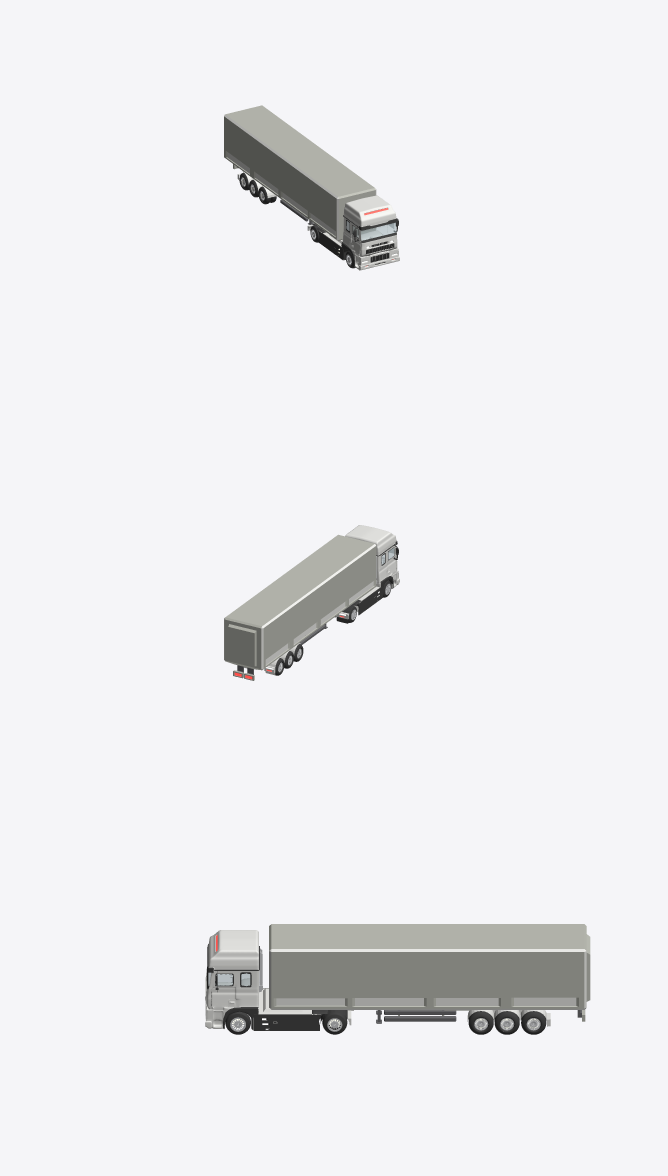
File: camion_daf.glb
The picture shows the model from 3 angles, top to bottom: view 1: azimuth 30°, elevation 25°; view 2: azimuth 150°, elevation 25°; view 3: azimuth 270°, elevation 25°; orthographic projection. The views are drawn at different scales.
Visible parts, largest first — view 1: Cube_Cube.006, truck_daf_Cube; view 2: Cube_Cube.006, truck_daf_Cube, truck_daf.003_Cube.005; view 3: Cube_Cube.006, truck_daf_Cube, truck_daf.003_Cube.005, Cube.001_Cube.007.
Part boxes in pixels (bbox=[...]): Cube_Cube.006: bbox=[224, 105, 376, 240]; truck_daf_Cube: bbox=[341, 195, 399, 270]; Cube_Cube.006: bbox=[224, 534, 376, 680]; truck_daf_Cube: bbox=[345, 525, 399, 595]; truck_daf.003_Cube.005: bbox=[335, 586, 382, 623]; Cube_Cube.006: bbox=[269, 924, 590, 1026]; truck_daf_Cube: bbox=[205, 930, 259, 1029]; truck_daf.003_Cube.005: bbox=[253, 988, 353, 1030]; Cube.001_Cube.007: bbox=[468, 1011, 546, 1034].
Bounding box in the file's own units: 33.48 × 9.89 × 32.71.
